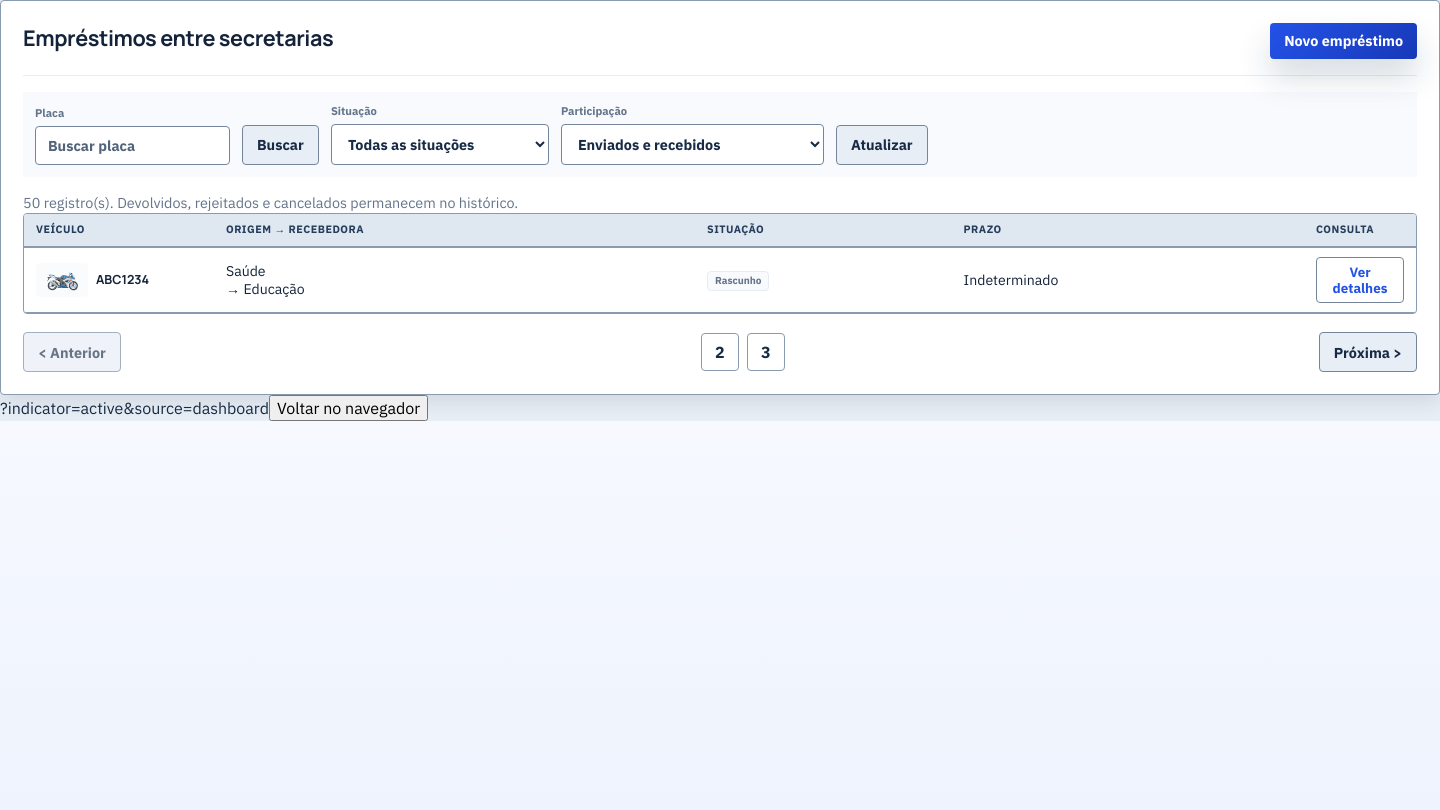
Test: fecha o painel preservando busca, situação, página, query e foco da lista
Select "Em andamento" in the dropdown labelled "Situação": [440, 144] box [331,124,549,165]
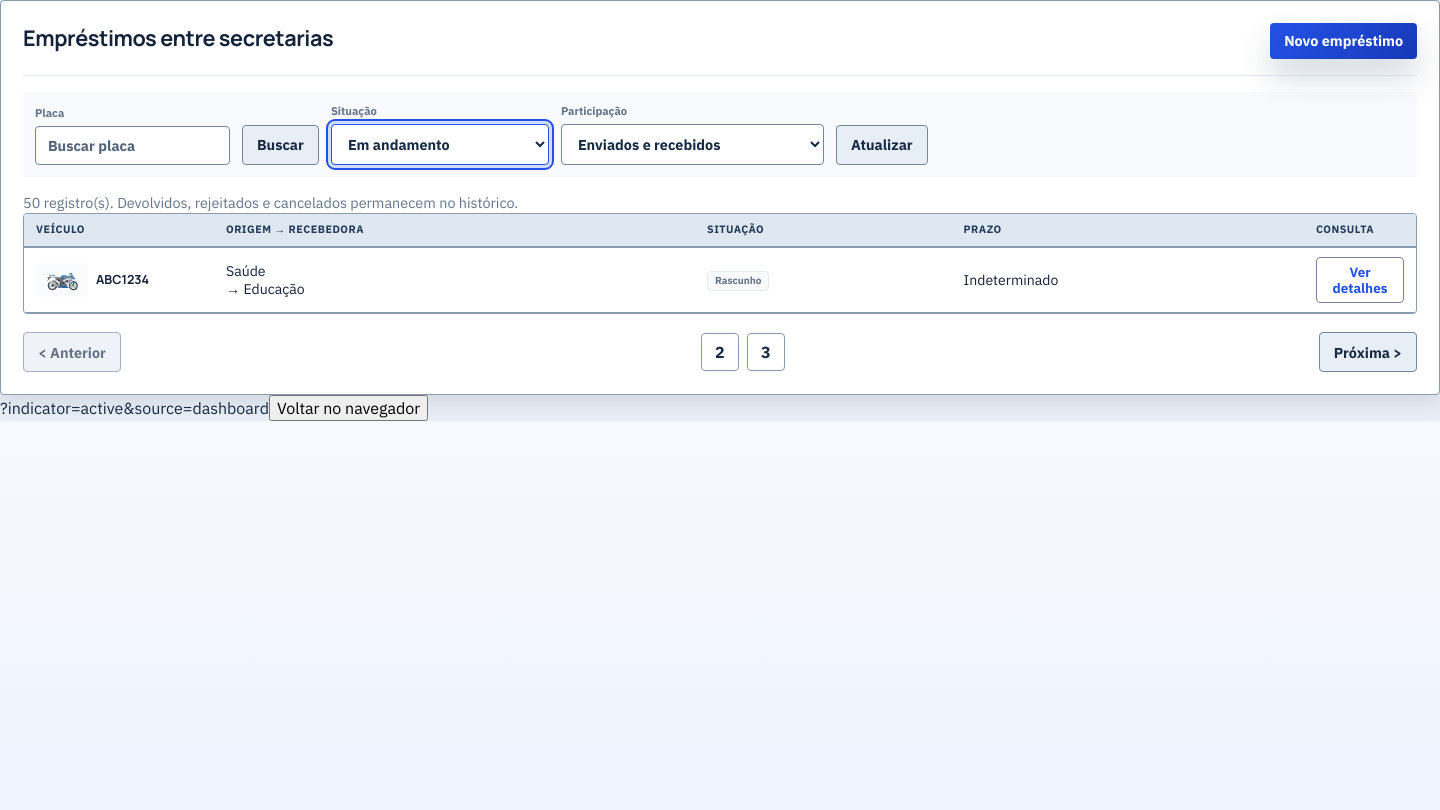
In the field labelled "Placa": [132, 146] box [35,126,230,165], type "ABC1234"
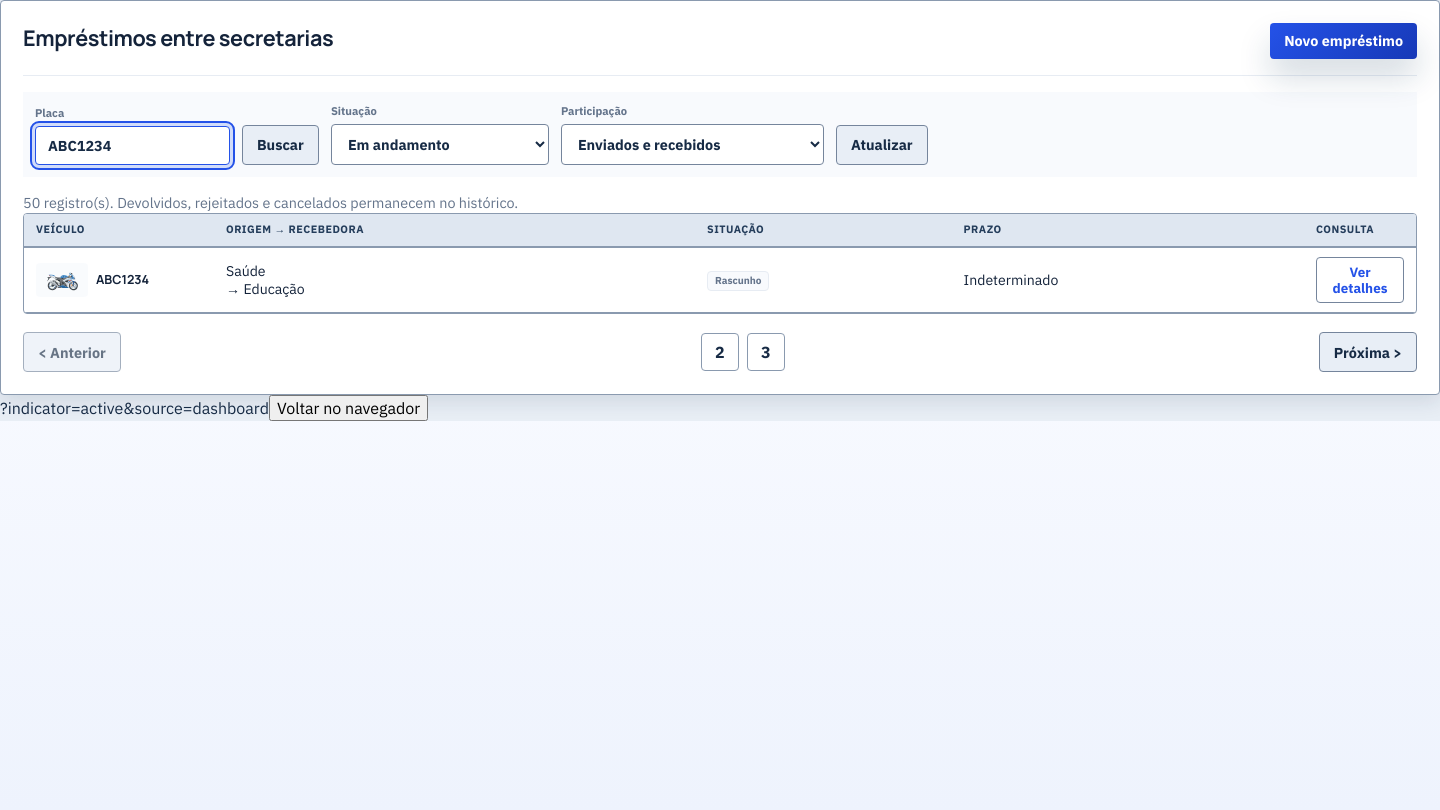
Click the button "Buscar": [280, 145] box [242,125,319,165]
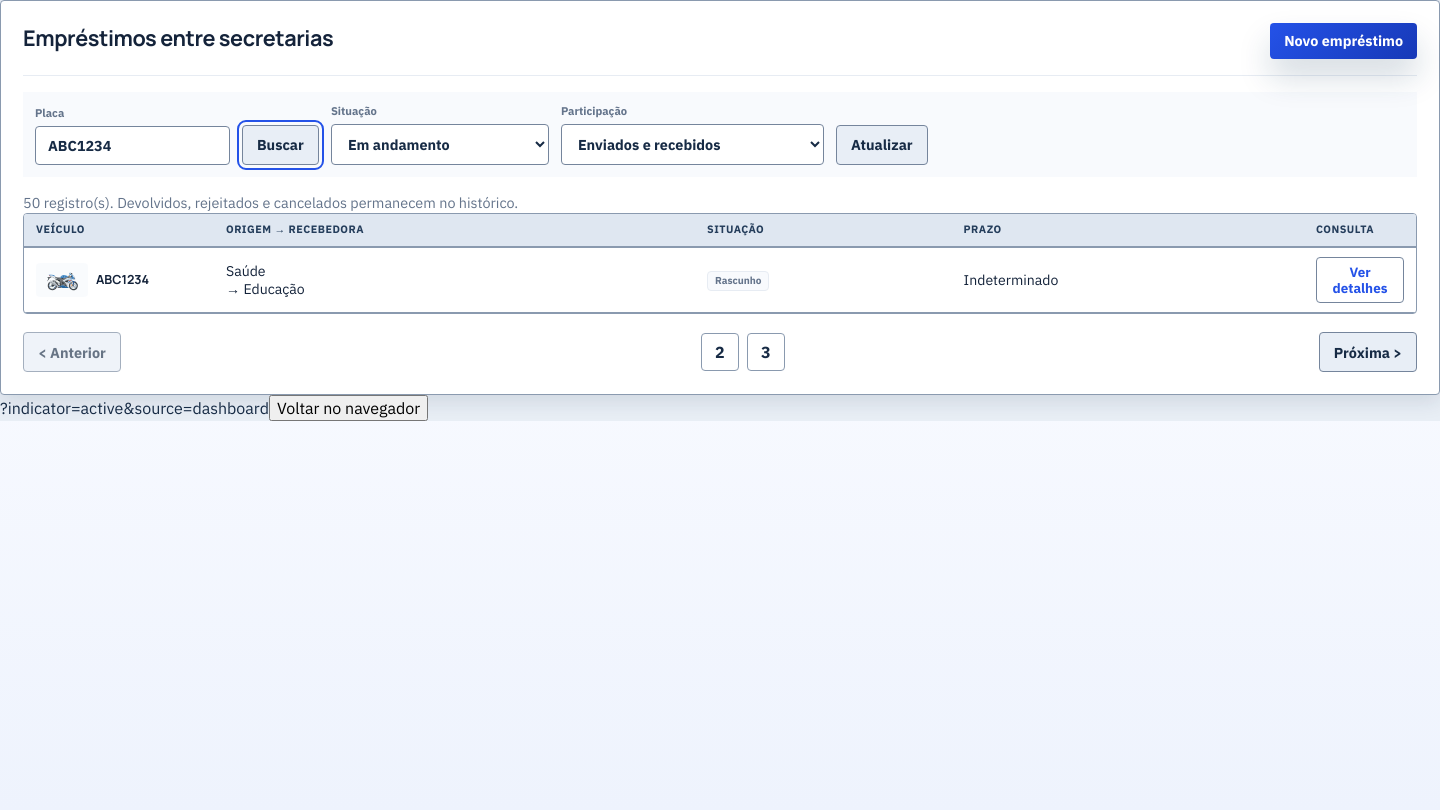
Click the button named "Página 2": [720, 352] box [701,333,739,371]
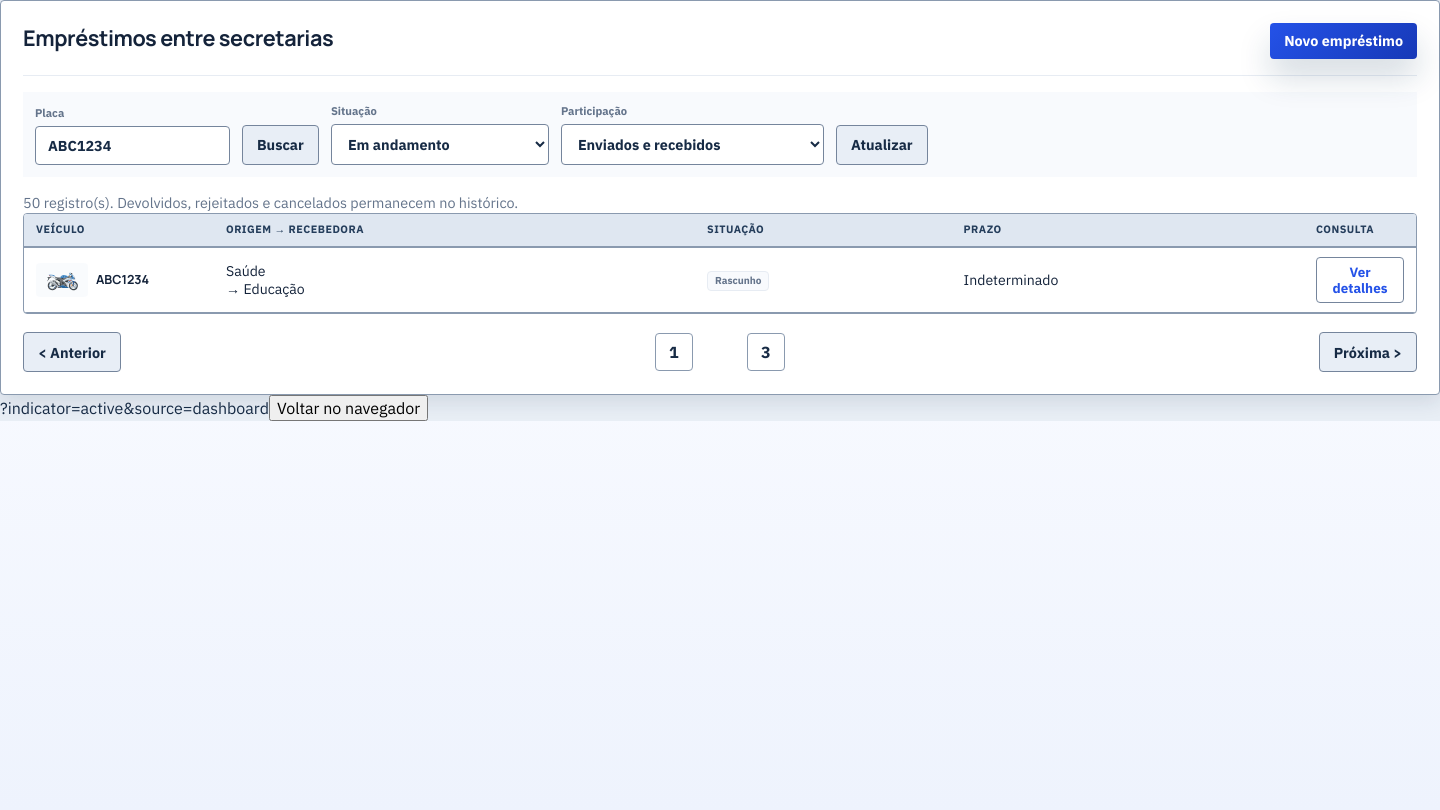
Click the button with aria-label "Ver empréstimo de ABC1234": [1360, 280] box [1316,257,1404,304]
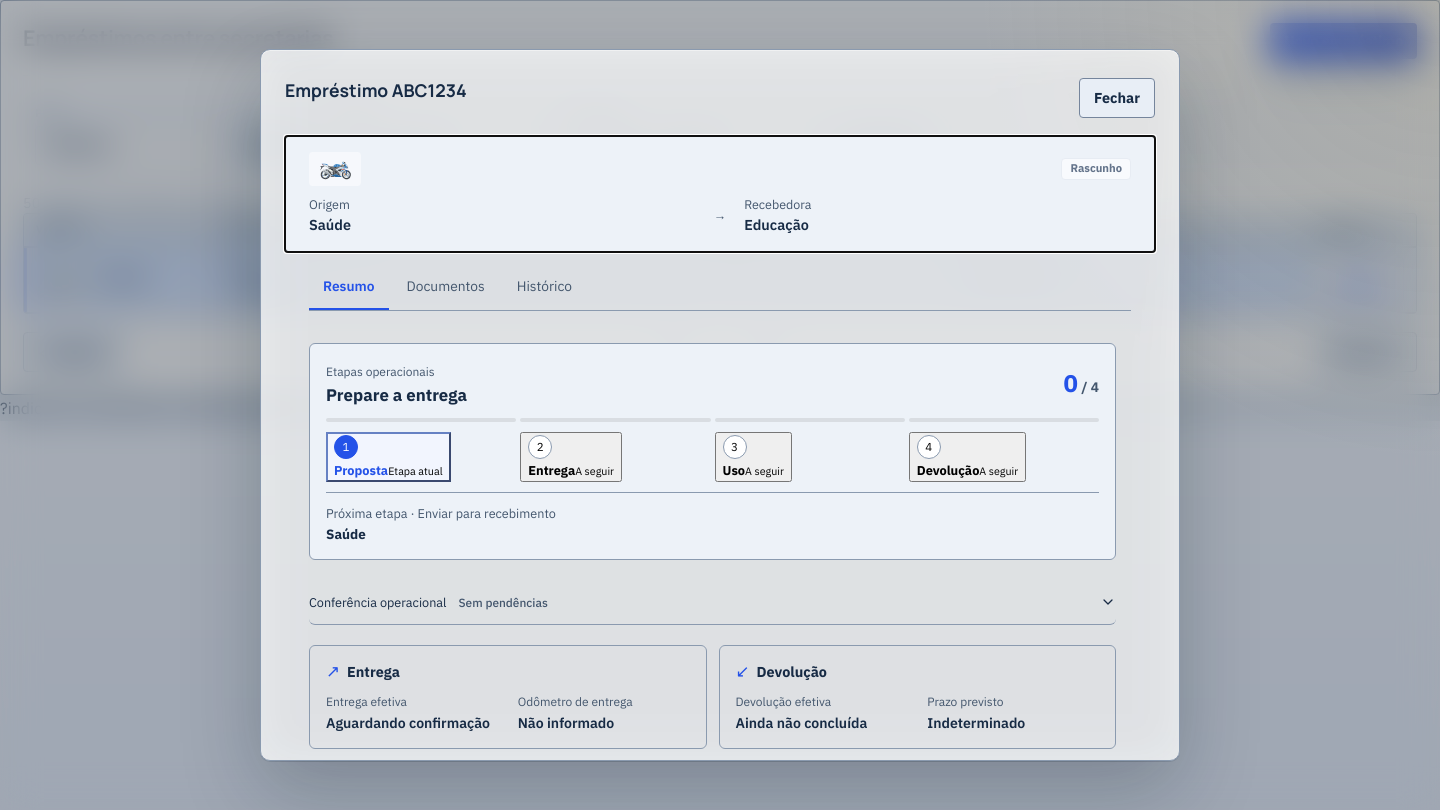
expect the dialog "Empréstimo ABC1234" is shown: met, box [260,49,1180,761]
expect the text named "URL atual" shows "indicator=active&source=dashboard&id=one": met, box [0,398,330,418]
Press Escape
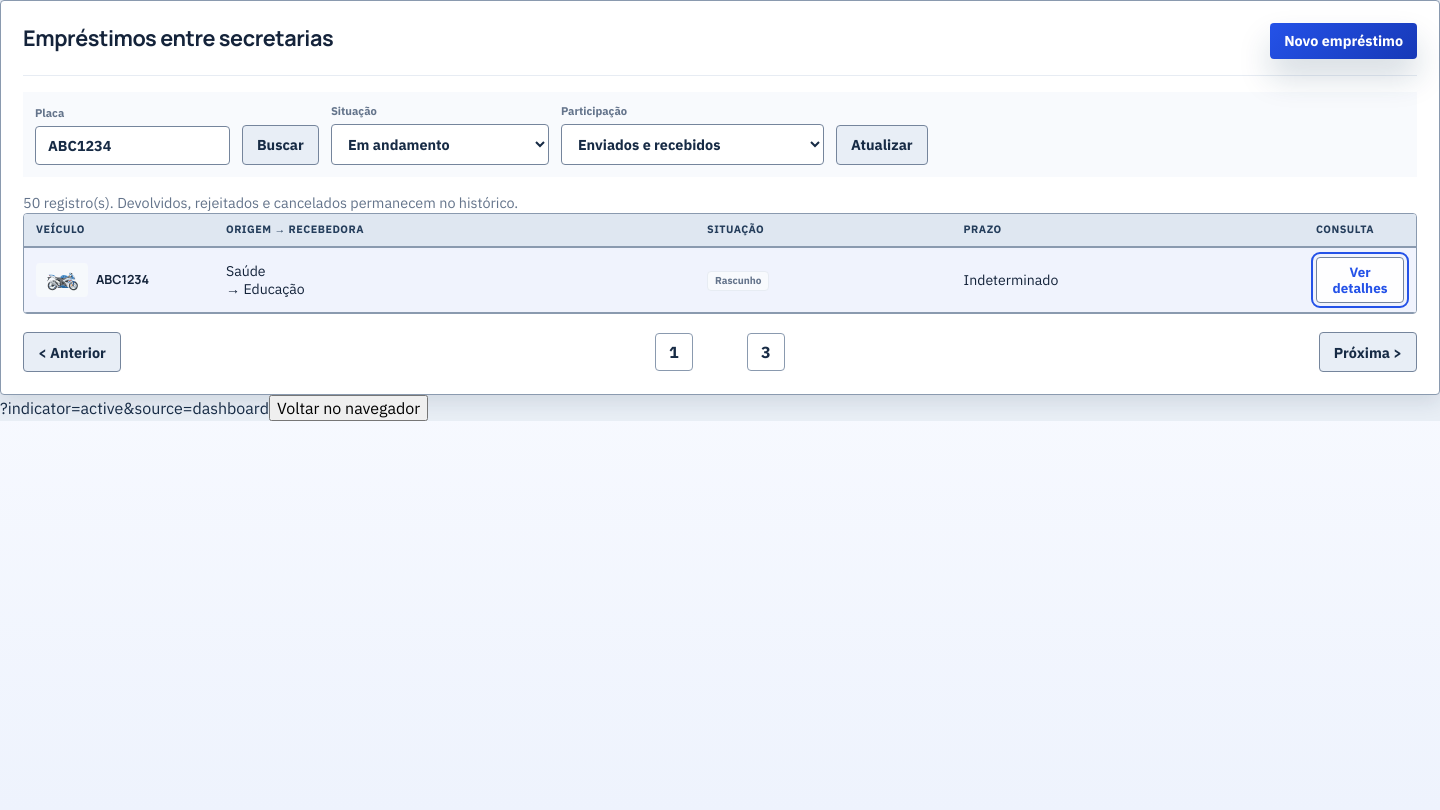
expect the dialog is gone: met
expect the text named "URL atual" reads "?indicator=active&source=dashboard": met, box [0,398,269,418]
